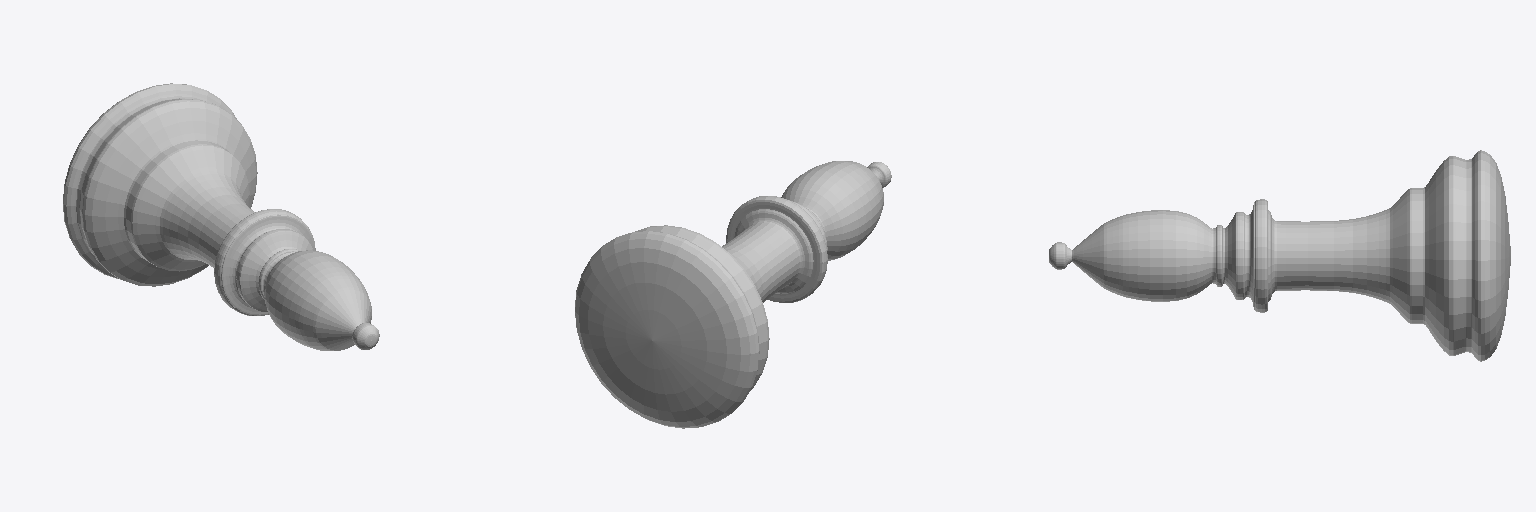
File: bishop.obj
3 views of the same model, side by side, from view 1: azimuth 30°, elevation 25°; view 2: azimuth 150°, elevation 25°; view 3: azimuth 270°, elevation 25° (orthographic).
Visible parts, largest first — view 1: Cube; view 2: Cube; view 3: Cube.
Boxes of the visible parts, x1=… form: Cube: x1=63, y1=83, x2=379, y2=350; Cube: x1=575, y1=161, x2=891, y2=428; Cube: x1=1049, y1=150, x2=1510, y2=361.
Size of the model in its own units: 1.86 by 1.86 by 4.05.